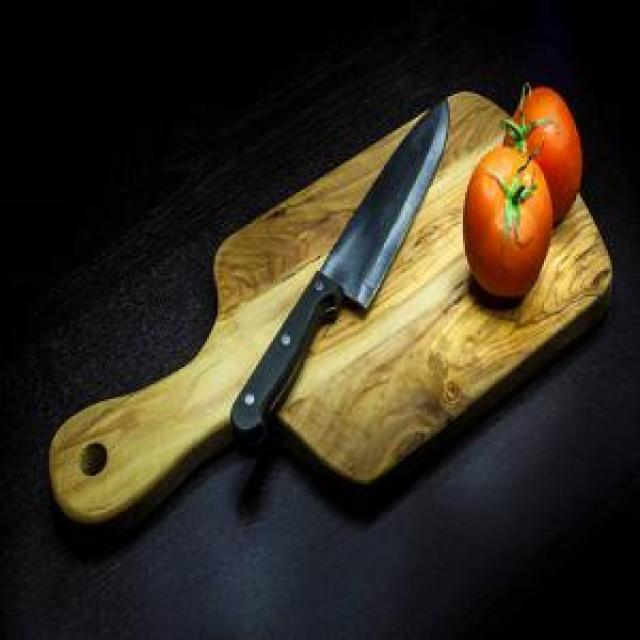knife: (230, 90, 452, 442)
